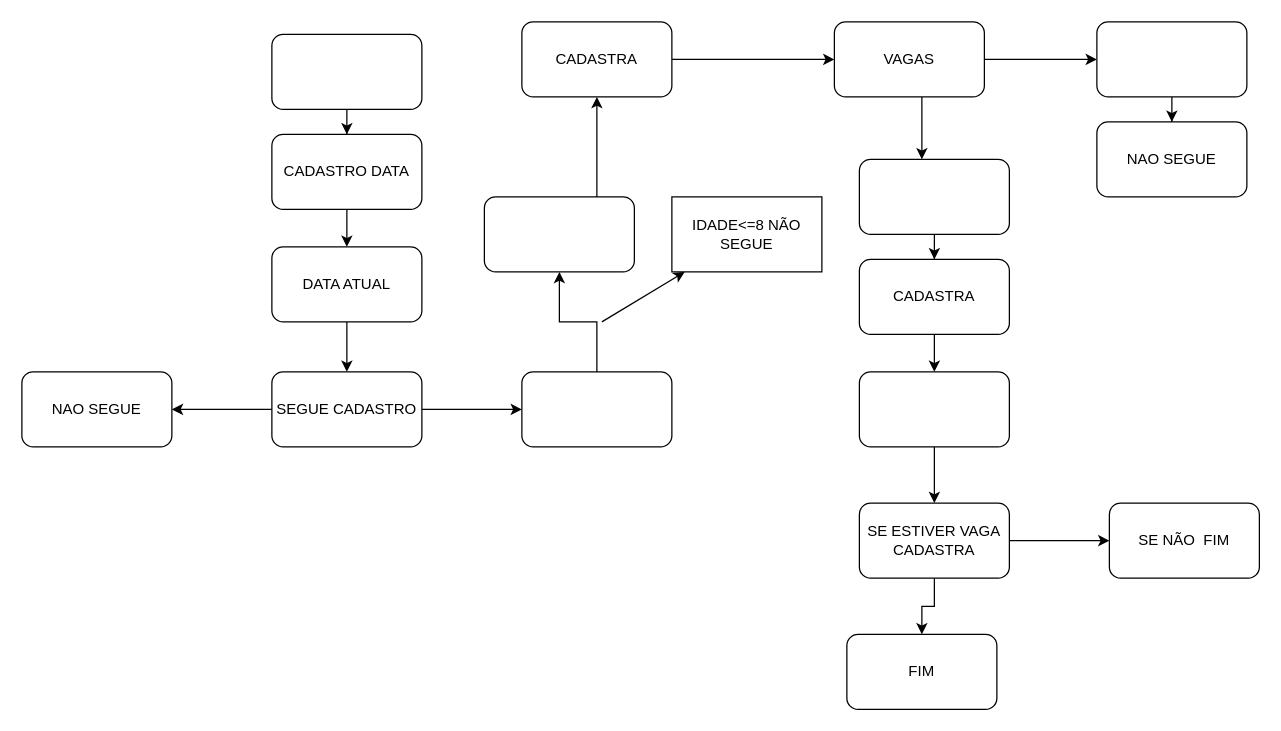
Image size: 1281x731. Some labels were removed from this diagram. The box of each missing label's shape, as (x1, y1, x2, y2) in pixels:
IDADE: (521, 371, 672, 447)
IDADE>=18: (483, 196, 634, 272)
INICIO: (271, 33, 422, 109)
LISTA: (858, 371, 1009, 447)
V<=100: (858, 158, 1009, 234)
V>100: (1096, 21, 1247, 97)
